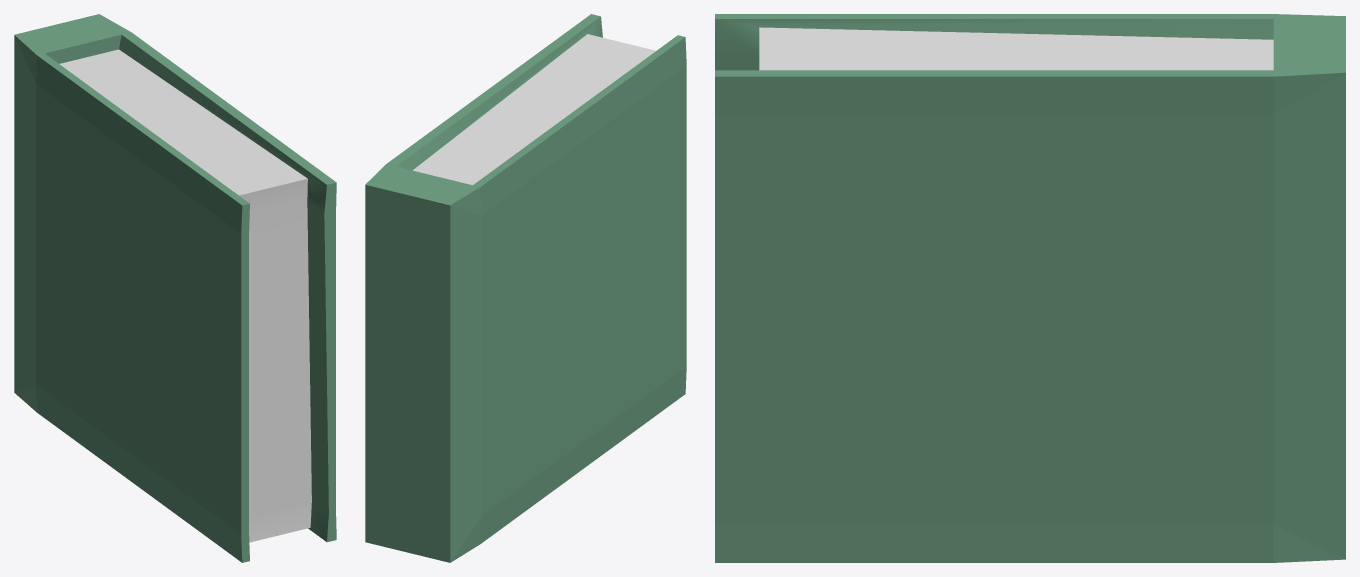
The model's file is Small_Book_Mint.fbx.
The picture shows the model from 3 angles, left to right: view 1: azimuth 30°, elevation 25°; view 2: azimuth 150°, elevation 25°; view 3: azimuth 270°, elevation 25°; orthographic projection. The views are drawn at different scales.
Parts seen in each view (by area): view 1: Book5; view 2: Book5; view 3: Book5.
Part boxes in pixels (<box>): Book5: <box>14,14,336,562</box>; Book5: <box>365,14,686,562</box>; Book5: <box>715,14,1345,562</box>.
Bounding box in the file's own units: 0.0717 × 0.2566 × 0.3014.
